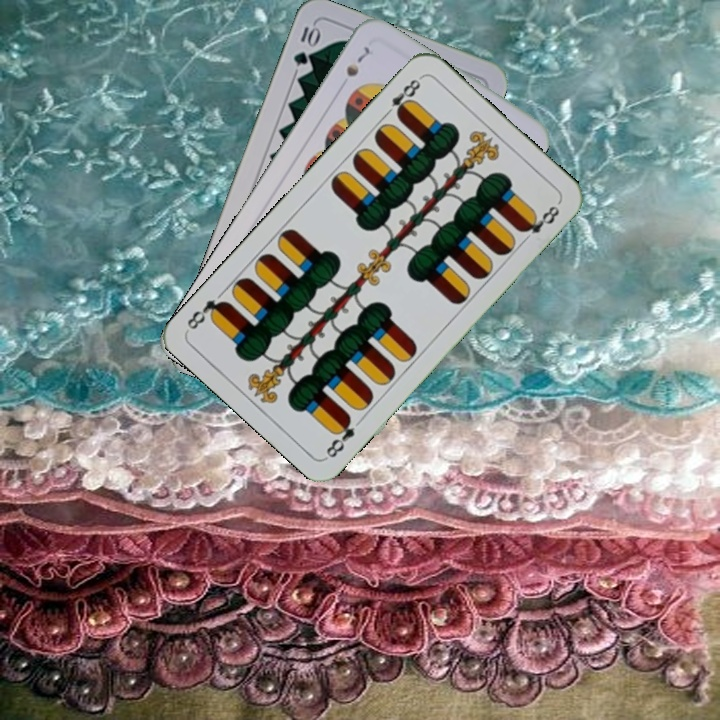E8: (379, 72, 425, 121), (321, 411, 358, 461)
G10: (289, 21, 322, 69)
S7: (342, 42, 373, 80)
